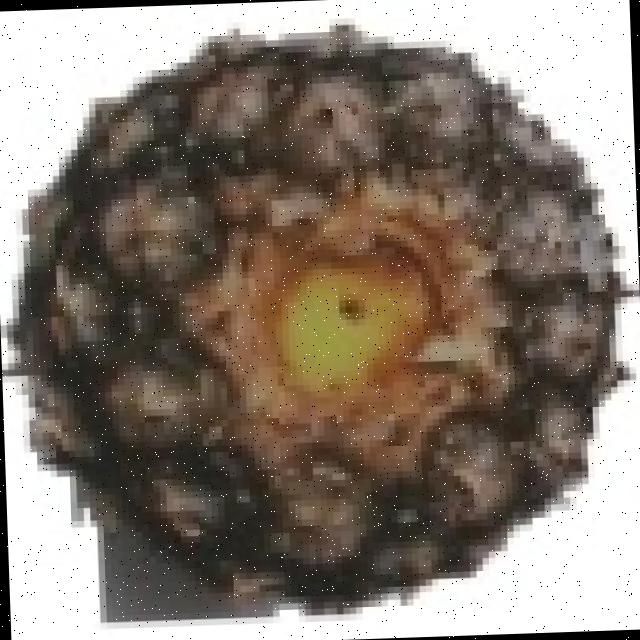pineapple: (26, 18, 626, 609)
